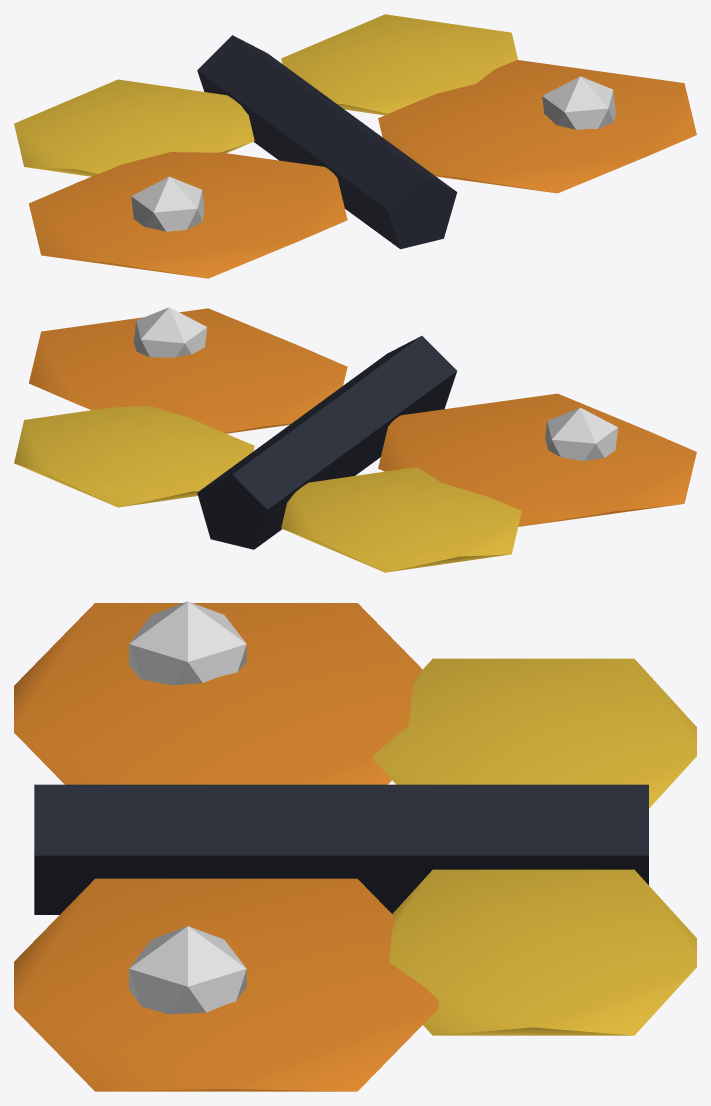
File: a_butterfly.glb
3 views of the same model, one above another, from view 1: azimuth 30°, elevation 25°; view 2: azimuth 150°, elevation 25°; view 3: azimuth 270°, elevation 25° (orthographic). The views are drawn at different scales.
Visible parts, largest first — view 1: body; view 2: body; view 3: body.
Boxes of the visible parts, x1,y1,x2,y2 form: body: (14, 14, 696, 278); body: (14, 307, 696, 572); body: (14, 601, 696, 1091).
Size of the model in its own units: 0.3131 by 0.0386 by 0.1778.
